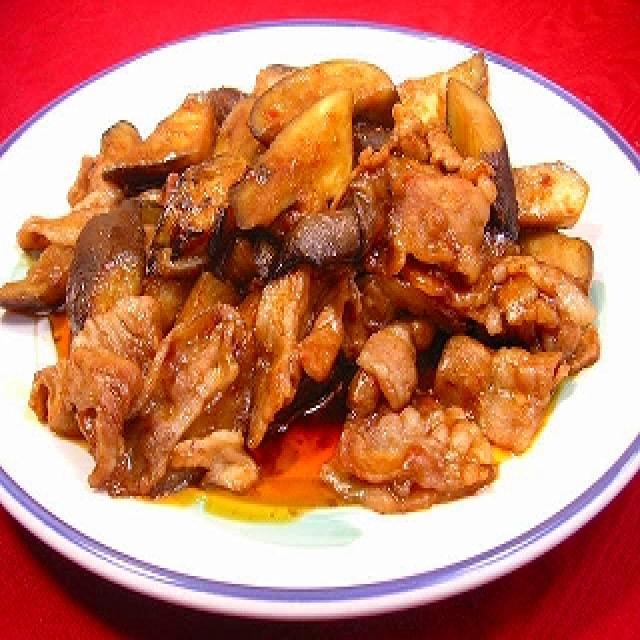鸡蛋料理: (0, 37, 640, 528)
